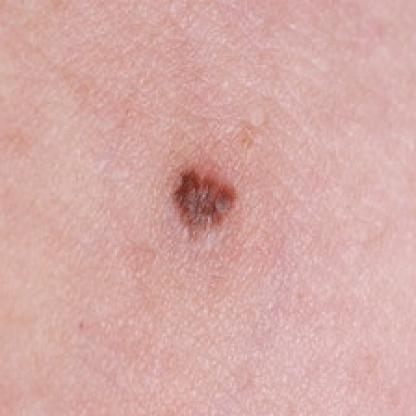Skin_Cancer-Malignant: (171, 166, 240, 240)
